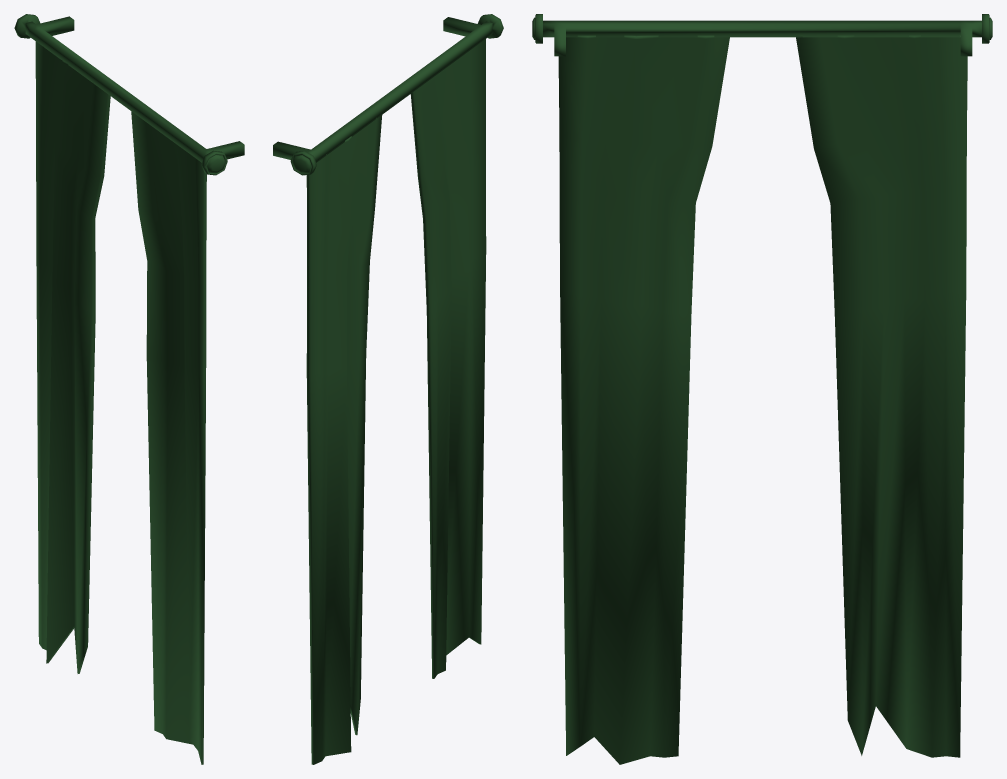
File: S_Curtains_low.glb
3 renders of one model, left to right at view 1: azimuth 30°, elevation 25°; view 2: azimuth 150°, elevation 25°; view 3: azimuth 270°, elevation 25°, orthographic. The views are drawn at different scales.
Parts seen in each view (by area): view 1: S_Curtains_low; view 2: S_Curtains_low; view 3: S_Curtains_low.
Boxes of the visible parts, x1=… form: S_Curtains_low: x1=14, y1=14, x2=244, y2=764; S_Curtains_low: x1=273, y1=14, x2=503, y2=764; S_Curtains_low: x1=532, y1=14, x2=992, y2=764.
Bounding box in the file's own units: 0.1743 × 2.05 × 1.15.
